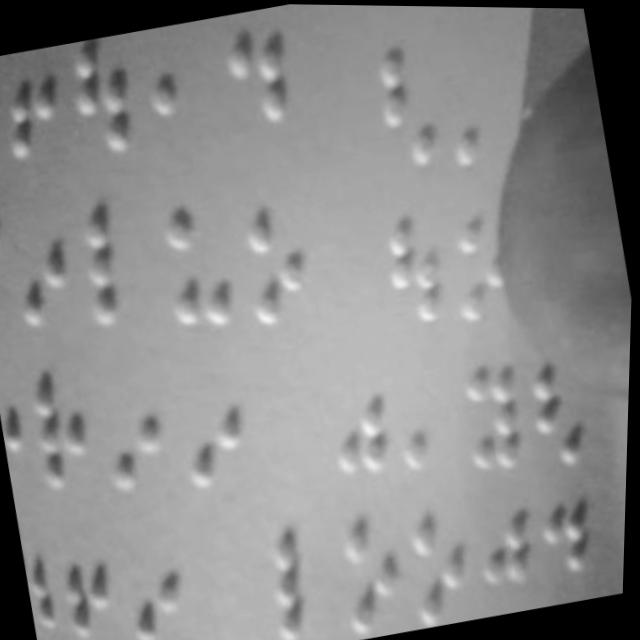braiile: (168, 344, 272, 500), (230, 188, 330, 336), (149, 198, 249, 337), (72, 191, 167, 335), (363, 33, 458, 175), (90, 361, 183, 502), (314, 346, 408, 484), (209, 3, 306, 132), (455, 340, 546, 477), (137, 19, 224, 159), (434, 39, 522, 177), (0, 198, 89, 332), (519, 338, 605, 474), (59, 33, 146, 167), (374, 202, 463, 331), (385, 345, 470, 477), (24, 367, 109, 497), (328, 510, 416, 634), (401, 503, 487, 629), (262, 525, 352, 640), (119, 520, 205, 640), (0, 44, 82, 168), (0, 57, 15, 176)
